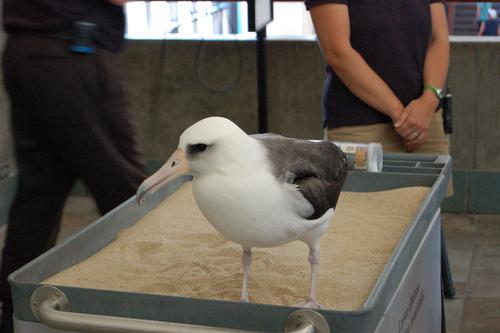002.Laysan_Albatross: (134, 114, 372, 311)
